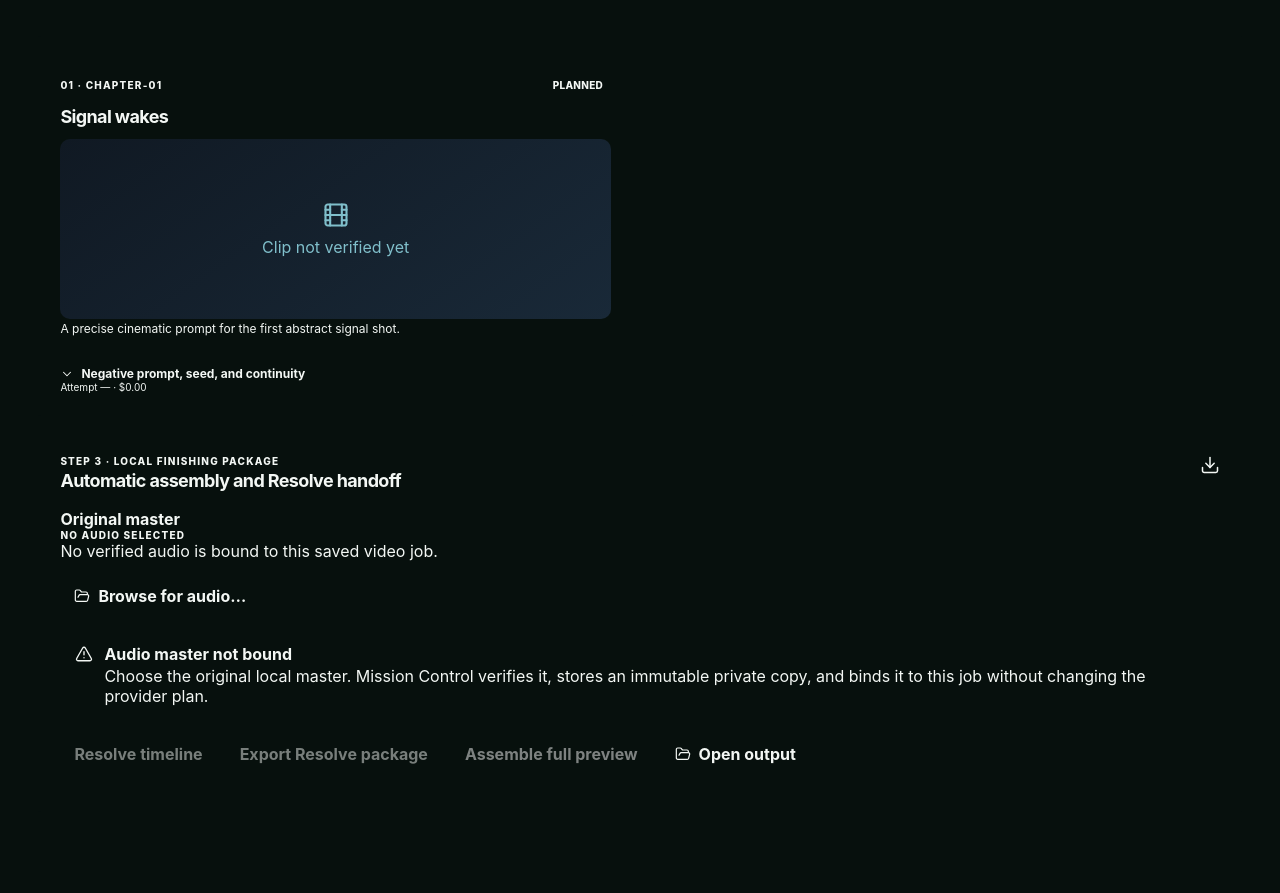
Scenario: VideoGenerationScreen › binds a browsed master through the typed saved-job contract
(page scrolled)
Step 1. Click the button "Browse for audio…" → (160, 596), box [60,577,260,615]
(page scrolled)
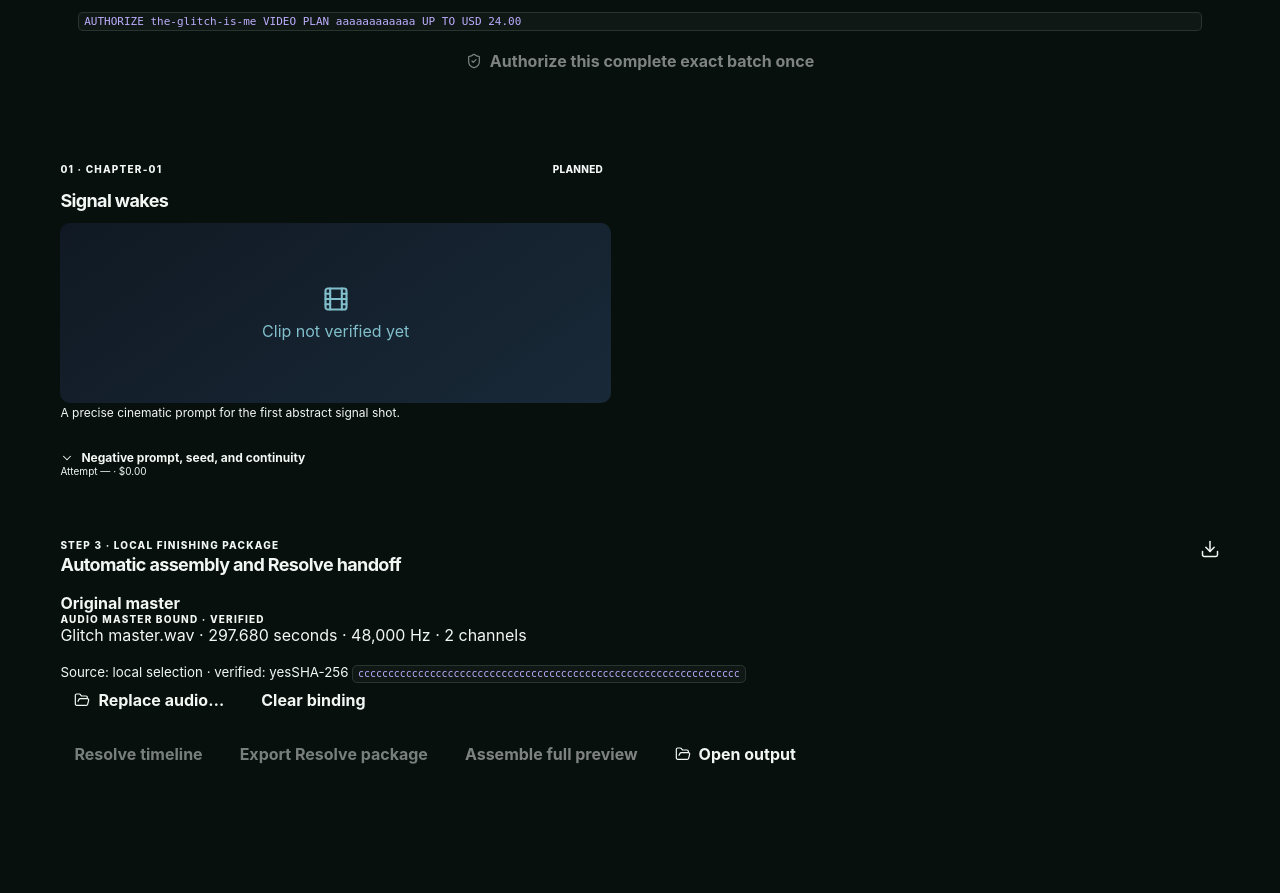
expect the text "Glitch master.wav · 297.680 seconds · 48,000 Hz · 2 channels" is shown: met, box [60,625,527,645]
